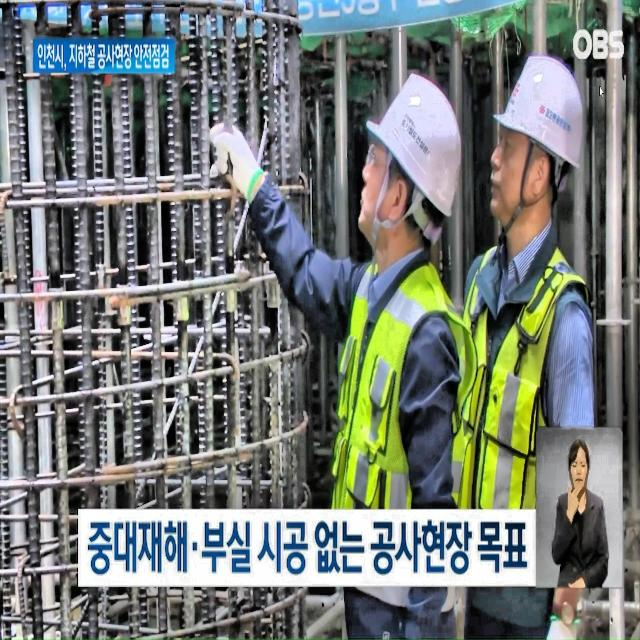safety_helmet: (366, 70, 460, 221), (487, 43, 596, 167)
safety_jacket: (338, 262, 472, 614), (476, 265, 598, 558)
